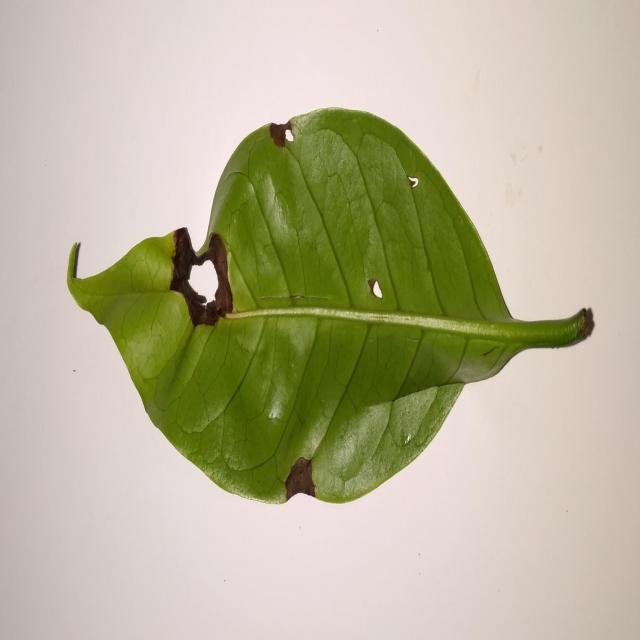Enfermedad-Antracnosis: (63, 109, 597, 507)
